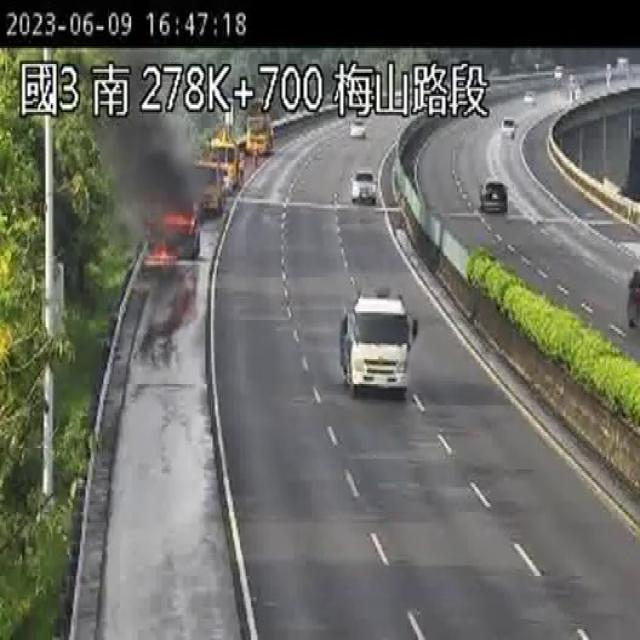Fire: (140, 205, 200, 273)
Smoke: (96, 106, 200, 216)
